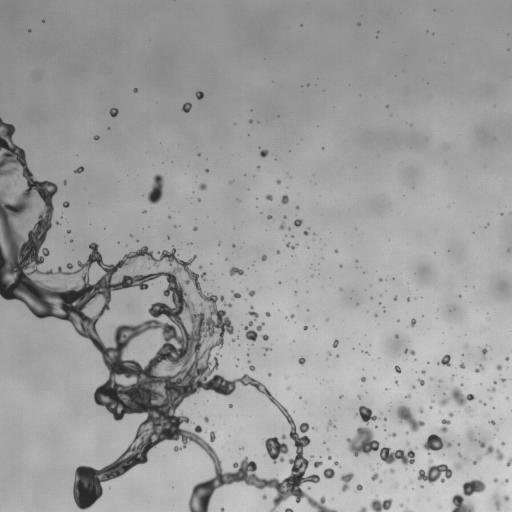droplet: (417, 458, 452, 484), (397, 405, 425, 434), (263, 437, 287, 463), (421, 434, 443, 455), (369, 494, 392, 511), (340, 472, 353, 492), (438, 418, 450, 433), (437, 354, 451, 366), (229, 266, 245, 276), (323, 468, 334, 479), (10, 133, 21, 144), (143, 180, 154, 191), (263, 201, 274, 212), (149, 243, 160, 254), (176, 249, 187, 260), (102, 254, 113, 265), (200, 281, 211, 292), (224, 308, 235, 319), (233, 325, 244, 336), (484, 360, 495, 371), (484, 363, 495, 374), (96, 373, 107, 384), (398, 382, 409, 393), (388, 411, 399, 422), (418, 428, 429, 439), (371, 429, 382, 440), (122, 434, 133, 445), (161, 438, 172, 449), (301, 445, 312, 456), (415, 446, 426, 457), (369, 449, 380, 460), (103, 454, 114, 465), (408, 463, 419, 474), (204, 468, 215, 479), (66, 472, 77, 483), (330, 475, 341, 486), (63, 484, 74, 495), (496, 484, 507, 495), (266, 486, 277, 497), (284, 494, 295, 505), (461, 494, 472, 505), (181, 102, 191, 113), (230, 290, 241, 300), (286, 242, 299, 250), (502, 446, 511, 457), (311, 460, 322, 468), (109, 108, 118, 117), (246, 288, 255, 297), (188, 95, 197, 104), (32, 172, 41, 181), (272, 193, 281, 202), (158, 194, 167, 203), (50, 195, 59, 204), (141, 197, 150, 206), (50, 211, 59, 220), (272, 215, 281, 224), (284, 217, 293, 226), (131, 242, 140, 251), (223, 292, 232, 301), (382, 295, 391, 304), (214, 300, 223, 309), (236, 347, 245, 356), (465, 362, 474, 371), (491, 370, 500, 379), (223, 372, 232, 381), (450, 379, 459, 388), (460, 386, 469, 395), (402, 398, 411, 407), (447, 399, 456, 408), (411, 411, 420, 420), (365, 419, 374, 428), (401, 420, 410, 429), (348, 429, 357, 438), (173, 437, 182, 446), (186, 440, 195, 449), (146, 448, 155, 457), (198, 449, 207, 458), (392, 458, 401, 467), (322, 459, 331, 468), (92, 461, 101, 470), (132, 463, 141, 472), (314, 466, 323, 475), (303, 467, 312, 476), (333, 468, 342, 477), (481, 476, 490, 485), (347, 479, 356, 488), (298, 481, 307, 490), (264, 498, 273, 507), (281, 194, 289, 204), (474, 364, 484, 372), (73, 166, 84, 173), (259, 149, 268, 157), (505, 466, 511, 477), (505, 483, 511, 494), (84, 505, 95, 511), (206, 505, 217, 511), (274, 505, 285, 511), (195, 91, 203, 99), (294, 219, 302, 227), (416, 378, 424, 386), (453, 462, 461, 470), (354, 484, 362, 492), (198, 183, 207, 190), (298, 357, 305, 366), (260, 334, 268, 341), (394, 365, 401, 373), (501, 478, 509, 485), (0, 175, 5, 186), (0, 232, 5, 243), (278, 221, 284, 230), (410, 318, 416, 327), (404, 392, 411, 399), (24, 155, 31, 162), (16, 164, 23, 171), (156, 168, 163, 175), (56, 182, 63, 189), (192, 183, 199, 190), (160, 186, 167, 193), (197, 189, 204, 196), (8, 198, 15, 205), (299, 223, 306, 230), (45, 229, 52, 236), (41, 240, 48, 247), (36, 249, 43, 256), (80, 256, 87, 263), (36, 263, 43, 270), (71, 263, 78, 270), (188, 263, 195, 270), (194, 267, 201, 274), (241, 290, 248, 297), (10, 297, 17, 304), (375, 306, 382, 313), (258, 313, 265, 320), (45, 315, 52, 322), (62, 319, 69, 326), (256, 330, 263, 337), (255, 334, 262, 341), (84, 337, 91, 344), (263, 339, 270, 346), (330, 347, 337, 354), (95, 351, 102, 358), (500, 359, 507, 366), (499, 368, 506, 375), (248, 370, 255, 377), (421, 373, 428, 380), (445, 389, 452, 396), (435, 393, 442, 400), (432, 402, 439, 409), (99, 405, 106, 412), (140, 411, 147, 418), (122, 412, 129, 419), (294, 419, 301, 426), (359, 420, 366, 427), (304, 429, 311, 436), (296, 430, 303, 437), (436, 430, 443, 437), (420, 435, 427, 442), (492, 442, 499, 449), (499, 445, 506, 452), (301, 451, 308, 458), (358, 451, 365, 458), (432, 459, 439, 466), (342, 467, 349, 474), (497, 474, 504, 481), (464, 475, 471, 482), (422, 479, 429, 486), (238, 480, 245, 487), (248, 484, 255, 491), (185, 487, 192, 494), (456, 488, 463, 495), (471, 490, 478, 497), (368, 494, 375, 501), (377, 495, 384, 502), (299, 496, 306, 503), (94, 498, 101, 505), (323, 501, 330, 508), (448, 502, 455, 509), (332, 339, 338, 347), (459, 361, 465, 369), (506, 377, 511, 386), (308, 506, 317, 511), (386, 506, 395, 511), (265, 194, 272, 200), (62, 201, 69, 207), (261, 254, 267, 261), (66, 263, 73, 269), (496, 364, 503, 370), (487, 387, 495, 392), (388, 432, 396, 437), (249, 365, 255, 371), (450, 374, 456, 380), (360, 376, 366, 382), (389, 468, 395, 474), (0, 125, 4, 134), (0, 146, 4, 155), (418, 406, 423, 413), (93, 135, 99, 140), (302, 325, 308, 330), (462, 343, 468, 348), (448, 411, 453, 417), (204, 416, 209, 422), (457, 452, 462, 458), (493, 477, 498, 483), (504, 495, 509, 501), (499, 378, 506, 382), (366, 507, 373, 511), (473, 507, 480, 511), (490, 507, 497, 511), (276, 179, 281, 184), (192, 226, 197, 231), (303, 230, 308, 235), (228, 403, 233, 408), (281, 434, 286, 439), (446, 442, 451, 447), (262, 494, 267, 499), (202, 93, 207, 98), (115, 113, 120, 118), (2, 118, 7, 123), (251, 120, 256, 125), (16, 142, 21, 147), (260, 145, 265, 150), (265, 153, 270, 158), (258, 155, 263, 160), (72, 164, 77, 169), (28, 167, 33, 172), (48, 177, 53, 182), (200, 178, 205, 183), (23, 184, 28, 189), (205, 185, 210, 190), (266, 189, 271, 194), (283, 190, 288, 195), (279, 202, 284, 207), (283, 202, 288, 207), (296, 214, 301, 219), (50, 218, 55, 223), (192, 221, 197, 226), (290, 224, 295, 229), (282, 227, 287, 232), (286, 230, 291, 235), (66, 233, 71, 238), (313, 234, 318, 239), (286, 236, 291, 241), (96, 246, 101, 251), (167, 247, 172, 252), (87, 248, 92, 253), (154, 253, 159, 258), (43, 255, 48, 260), (256, 255, 261, 260), (182, 256, 187, 261), (264, 258, 269, 263), (112, 260, 117, 265), (226, 264, 231, 269), (236, 264, 241, 269), (61, 266, 66, 271), (52, 267, 57, 272), (224, 269, 229, 274), (312, 270, 317, 275), (233, 272, 238, 277), (196, 276, 201, 281), (248, 285, 253, 290), (233, 288, 238, 293), (377, 296, 382, 301), (19, 301, 24, 306), (222, 305, 227, 310), (377, 310, 382, 315), (368, 311, 373, 316), (31, 314, 36, 319), (249, 314, 254, 319), (289, 317, 294, 322), (406, 319, 411, 324), (243, 320, 248, 325), (230, 321, 235, 326), (247, 325, 252, 330), (241, 329, 246, 334), (223, 330, 228, 335), (230, 333, 235, 338), (247, 338, 252, 343), (336, 343, 341, 348), (356, 345, 361, 350), (407, 345, 412, 350), (265, 350, 270, 355), (414, 352, 419, 357), (409, 354, 414, 359), (216, 356, 221, 361), (303, 360, 308, 365), (481, 360, 486, 365), (217, 362, 222, 367), (399, 365, 404, 370), (491, 365, 496, 370), (360, 371, 365, 376), (237, 373, 242, 378), (419, 374, 424, 379), (423, 378, 428, 383), (432, 378, 437, 383), (496, 379, 501, 384), (415, 381, 420, 386), (408, 388, 413, 393), (359, 390, 364, 395), (487, 390, 492, 395), (89, 395, 94, 400), (486, 402, 491, 407), (365, 403, 370, 408), (423, 406, 428, 411), (354, 407, 359, 412), (287, 409, 292, 414), (108, 412, 113, 417), (356, 414, 361, 419), (301, 417, 306, 422), (438, 422, 443, 427), (445, 423, 450, 428), (328, 425, 333, 430), (417, 425, 422, 430), (388, 428, 393, 433), (130, 432, 135, 437), (472, 433, 477, 438), (344, 441, 349, 446), (451, 441, 456, 446), (484, 441, 489, 446), (474, 442, 479, 447), (377, 444, 382, 449), (121, 446, 126, 451), (456, 446, 461, 451), (482, 446, 487, 451), (423, 448, 428, 453), (428, 448, 433, 453), (369, 449, 374, 454), (348, 451, 353, 456), (413, 454, 418, 459), (313, 456, 318, 461), (457, 457, 462, 462), (502, 457, 507, 462), (381, 460, 386, 465), (406, 462, 411, 467), (330, 464, 335, 469), (447, 464, 452, 469), (71, 466, 76, 471), (368, 471, 373, 476), (414, 471, 419, 476), (440, 471, 445, 476), (302, 472, 307, 477), (391, 472, 396, 477), (377, 474, 382, 479), (327, 477, 332, 482), (373, 478, 378, 483), (435, 478, 440, 483), (339, 480, 344, 485), (99, 481, 104, 486), (406, 483, 411, 488), (448, 494, 453, 499), (315, 497, 320, 502), (499, 497, 504, 502), (489, 499, 494, 504), (356, 505, 361, 510), (55, 221, 61, 225), (286, 386, 292, 390), (394, 482, 398, 488), (0, 218, 3, 225), (0, 294, 3, 301), (256, 165, 260, 170), (267, 215, 272, 219), (66, 229, 71, 233), (217, 241, 221, 246), (198, 264, 202, 269), (393, 295, 397, 300), (406, 297, 410, 302), (265, 312, 270, 316), (421, 370, 425, 375), (411, 384, 415, 389), (357, 394, 361, 399), (378, 411, 383, 415), (333, 461, 338, 465), (41, 19, 45, 23), (133, 88, 137, 92), (248, 119, 252, 123), (197, 198, 201, 202), (295, 205, 299, 209), (334, 249, 338, 253), (506, 248, 510, 252), (276, 250, 280, 254), (374, 313, 378, 317), (290, 314, 294, 318), (325, 317, 329, 321), (394, 334, 398, 338), (327, 351, 331, 355), (505, 356, 509, 360), (429, 377, 433, 381), (493, 380, 497, 384), (339, 395, 343, 399), (505, 396, 509, 400), (429, 405, 433, 409), (438, 409, 442, 413), (383, 417, 387, 421), (501, 441, 505, 445), (307, 486, 311, 490), (399, 503, 403, 507), (220, 507, 224, 511), (63, 180, 66, 185), (187, 241, 192, 244), (294, 290, 297, 295), (406, 441, 409, 446), (309, 454, 314, 457), (328, 455, 331, 460), (419, 485, 424, 488), (508, 355, 511, 360), (508, 395, 511, 400), (508, 477, 511, 482), (508, 495, 511, 500), (185, 508, 190, 511), (498, 508, 503, 511), (197, 153, 201, 156), (205, 169, 209, 172), (142, 210, 146, 213), (312, 232, 316, 235), (129, 234, 133, 237), (167, 235, 170, 239), (278, 280, 281, 284), (339, 287, 342, 291), (356, 302, 359, 306), (396, 319, 400, 322), (262, 353, 266, 356), (268, 372, 271, 376), (284, 375, 287, 379), (438, 379, 442, 382), (298, 396, 302, 399), (430, 400, 434, 403), (322, 440, 325, 444), (457, 442, 460, 446), (326, 447, 329, 451), (379, 479, 382, 483), (403, 485, 407, 488), (357, 22, 360, 25), (28, 29, 31, 32), (376, 30, 379, 33), (306, 83, 309, 86), (107, 126, 110, 129), (321, 146, 324, 149), (500, 212, 503, 215), (168, 215, 171, 218), (283, 215, 286, 218), (173, 225, 176, 228), (287, 227, 290, 230), (291, 234, 294, 237), (70, 239, 73, 242), (232, 244, 235, 247), (355, 259, 358, 262), (209, 262, 212, 265), (339, 264, 342, 267), (310, 274, 313, 277), (379, 294, 382, 297), (458, 294, 461, 297), (370, 296, 373, 299), (378, 301, 381, 304), (296, 304, 299, 307), (306, 308, 309, 311), (292, 339, 295, 342), (246, 353, 249, 356), (460, 353, 463, 356), (336, 354, 339, 357), (414, 358, 417, 361), (247, 360, 250, 363), (426, 361, 429, 364), (372, 376, 375, 379), (460, 383, 463, 386), (489, 396, 492, 399), (304, 400, 307, 403), (492, 406, 495, 409), (374, 425, 377, 428), (331, 497, 334, 500), (406, 498, 409, 501), (44, 19, 47, 22), (299, 20, 302, 23), (39, 21, 42, 24), (296, 23, 299, 26), (30, 27, 33, 30), (24, 28, 27, 31), (27, 31, 30, 34), (428, 31, 431, 34), (374, 32, 377, 35), (133, 84, 136, 87), (303, 84, 306, 87), (136, 87, 139, 90), (199, 88, 202, 91), (135, 91, 138, 94), (200, 97, 203, 100), (185, 99, 188, 102), (182, 100, 185, 103), (384, 101, 387, 104), (114, 105, 117, 108), (179, 105, 182, 108), (384, 107, 387, 110), (188, 109, 191, 112), (181, 110, 184, 113), (108, 114, 111, 117), (249, 116, 252, 119), (247, 122, 250, 125), (104, 125, 107, 128), (107, 129, 110, 132), (92, 132, 95, 135), (96, 132, 99, 135), (90, 135, 93, 138), (246, 135, 249, 138), (95, 139, 98, 142), (321, 143, 324, 146), (318, 146, 321, 149), (323, 147, 326, 150), (258, 148, 261, 151), (195, 150, 198, 153), (288, 151, 291, 154), (199, 154, 202, 157), (195, 155, 198, 158), (82, 164, 85, 167), (205, 165, 208, 168), (259, 166, 262, 169), (83, 167, 86, 170), (208, 169, 211, 172), (80, 171, 83, 174), (204, 171, 207, 174), (75, 172, 78, 175), (288, 172, 291, 175), (243, 175, 246, 178), (277, 176, 280, 179), (65, 180, 68, 183), (273, 180, 276, 183), (277, 183, 280, 186), (287, 195, 290, 198), (199, 196, 202, 199), (238, 196, 241, 199), (252, 196, 255, 199), (279, 196, 282, 199), (200, 199, 203, 202), (255, 199, 258, 202), (267, 199, 270, 202), (195, 200, 198, 203), (68, 203, 71, 206), (298, 204, 301, 207), (62, 206, 65, 209), (66, 206, 69, 209), (140, 208, 143, 211), (294, 208, 297, 211), (500, 209, 503, 212), (142, 212, 145, 215), (168, 212, 171, 215), (269, 212, 272, 215), (497, 213, 500, 216), (502, 213, 505, 216), (280, 214, 283, 217), (62, 215, 65, 218), (164, 215, 167, 218), (167, 218, 170, 221), (268, 218, 271, 221), (58, 220, 61, 223), (483, 222, 486, 225), (175, 223, 178, 226), (276, 224, 279, 227), (190, 225, 193, 228), (294, 225, 297, 228), (486, 225, 489, 228), (67, 226, 70, 229), (100, 226, 103, 229), (172, 227, 175, 230), (278, 228, 281, 231), (305, 228, 308, 231), (471, 228, 474, 231), (70, 229, 73, 232), (195, 229, 198, 232), (314, 230, 317, 233), (131, 232, 134, 235), (303, 234, 306, 237), (127, 235, 130, 238), (169, 235, 172, 238), (136, 236, 139, 239), (164, 236, 167, 239), (116, 237, 119, 240), (66, 239, 69, 242), (72, 239, 75, 242), (187, 239, 190, 242), (191, 239, 194, 242), (119, 240, 122, 243), (284, 240, 287, 243), (87, 241, 90, 244), (95, 241, 98, 244), (214, 241, 217, 244), (219, 242, 222, 245), (234, 242, 237, 245), (306, 242, 309, 245), (187, 243, 190, 246), (173, 245, 176, 248), (229, 245, 232, 248), (287, 246, 290, 249), (47, 247, 50, 250), (336, 247, 339, 250), (305, 248, 308, 251), (444, 248, 447, 251), (48, 250, 51, 253), (125, 250, 128, 253), (273, 250, 276, 253), (279, 250, 282, 253), (331, 250, 334, 253), (193, 251, 196, 254), (447, 251, 450, 254), (190, 254, 193, 257), (355, 256, 358, 259), (194, 257, 197, 260), (221, 257, 224, 260), (209, 259, 212, 262), (65, 260, 68, 263), (262, 260, 265, 263), (253, 262, 256, 265), (354, 262, 357, 265), (341, 263, 344, 266), (249, 265, 252, 268), (337, 266, 340, 269), (376, 275, 379, 278), (389, 275, 392, 278), (381, 276, 384, 279), (394, 276, 397, 279), (276, 278, 279, 281), (280, 279, 283, 282), (381, 279, 384, 282), (391, 279, 394, 282), (378, 281, 381, 284), (278, 283, 281, 286), (294, 287, 297, 290), (254, 290, 257, 293), (291, 291, 294, 294), (296, 291, 299, 294), (457, 291, 460, 294), (203, 292, 206, 295), (212, 292, 215, 295), (252, 294, 255, 297), (391, 294, 394, 297), (460, 295, 463, 298), (396, 296, 399, 299), (456, 296, 459, 299), (234, 297, 237, 300), (409, 297, 412, 300), (403, 298, 406, 301), (375, 300, 378, 303), (393, 300, 396, 303), (379, 303, 382, 306), (305, 305, 308, 308), (380, 307, 383, 310), (384, 307, 387, 310), (265, 308, 268, 311), (306, 311, 309, 314), (384, 311, 387, 314), (420, 311, 423, 314), (269, 312, 272, 315), (423, 314, 426, 317), (281, 315, 284, 318), (287, 315, 290, 318), (372, 316, 375, 319), (375, 316, 378, 319), (395, 316, 398, 319), (399, 318, 402, 321), (304, 322, 307, 325), (414, 322, 417, 325), (314, 324, 317, 327), (261, 325, 264, 328), (300, 326, 303, 329), (303, 329, 306, 332), (266, 332, 269, 335), (397, 333, 400, 336), (335, 336, 338, 339), (393, 337, 396, 340), (234, 338, 237, 341), (266, 338, 269, 341), (331, 338, 334, 341), (231, 341, 234, 344), (359, 341, 362, 344), (350, 344, 353, 347), (481, 345, 484, 348), (485, 346, 488, 349), (271, 348, 274, 351), (363, 348, 366, 351), (401, 348, 404, 351), (262, 349, 265, 352), (247, 350, 250, 353), (367, 350, 370, 353), (460, 350, 463, 353), (361, 351, 364, 354), (479, 351, 482, 354), (485, 351, 488, 354), (463, 352, 466, 355), (338, 353, 341, 356), (364, 353, 367, 356), (235, 354, 238, 357), (301, 354, 304, 357), (449, 354, 452, 357), (261, 355, 264, 358), (297, 355, 300, 358), (327, 355, 330, 358), (502, 355, 505, 358), (246, 356, 249, 359), (426, 358, 429, 361), (235, 360, 238, 363), (295, 360, 298, 363), (413, 360, 416, 363), (448, 360, 451, 363), (248, 362, 251, 365), (395, 362, 398, 365), (433, 362, 436, 365), (463, 362, 466, 365), (298, 363, 301, 366), (426, 363, 429, 366), (232, 365, 235, 368), (476, 365, 479, 368), (422, 367, 425, 370), (459, 367, 462, 370), (392, 368, 395, 371), (471, 368, 474, 371), (400, 369, 403, 372), (270, 371, 273, 374), (394, 371, 397, 374), (473, 371, 476, 374), (476, 371, 479, 374), (453, 375, 456, 378), (501, 375, 504, 378), (375, 376, 378, 379), (364, 379, 367, 382), (397, 380, 400, 383), (459, 380, 462, 383), (503, 380, 506, 383), (360, 381, 363, 384), (392, 382, 395, 385), (423, 382, 426, 385), (438, 382, 441, 385), (492, 383, 495, 386), (386, 385, 389, 388), (408, 385, 411, 388), (488, 386, 491, 389), (381, 387, 384, 390), (267, 388, 270, 391), (412, 388, 415, 391), (287, 389, 290, 392), (384, 390, 387, 393), (357, 391, 360, 394), (470, 391, 473, 394), (338, 392, 341, 395), (404, 392, 407, 395), (343, 393, 346, 396), (295, 395, 298, 398), (341, 396, 344, 399), (355, 396, 358, 399), (431, 396, 434, 399), (299, 398, 302, 401), (429, 402, 432, 405), (480, 402, 483, 405), (492, 403, 495, 406), (284, 405, 287, 408), (483, 405, 486, 408), (428, 408, 431, 411), (492, 408, 495, 411), (452, 411, 455, 414), (469, 411, 472, 414), (384, 414, 387, 417), (380, 416, 383, 419), (386, 417, 389, 420), (488, 417, 491, 420), (325, 419, 328, 422), (493, 419, 496, 422), (382, 420, 385, 423), (484, 420, 487, 423), (332, 421, 335, 424), (488, 422, 491, 425), (335, 423, 338, 426), (395, 433, 398, 436), (480, 438, 483, 441), (503, 439, 506, 442), (319, 440, 322, 443), (308, 441, 311, 444), (323, 443, 326, 446), (459, 443, 462, 446), (385, 444, 388, 447), (181, 447, 184, 450), (177, 449, 180, 452), (412, 449, 415, 452), (460, 451, 463, 454), (327, 452, 330, 455), (471, 457, 474, 460), (469, 460, 472, 463), (475, 462, 478, 465), (504, 475, 507, 478), (368, 477, 371, 480), (360, 482, 363, 485), (419, 487, 422, 490), (356, 489, 359, 492), (259, 496, 262, 499), (220, 504, 223, 507), (401, 506, 404, 509), (407, 506, 410, 509), (285, 316, 287, 320), (432, 32, 434, 35), (385, 105, 388, 107), (307, 227, 310, 229), (285, 234, 287, 237), (136, 239, 138, 242), (306, 246, 309, 248), (225, 257, 227, 260), (306, 290, 308, 293), (244, 298, 246, 301), (366, 310, 368, 313), (238, 343, 240, 346), (326, 357, 328, 360), (236, 358, 239, 360), (235, 365, 238, 367), (385, 388, 388, 390), (415, 446, 417, 449), (509, 47, 511, 50), (509, 248, 511, 251), (223, 509, 226, 511), (495, 509, 498, 511), (433, 9, 435, 11), (300, 24, 302, 26), (426, 30, 428, 32), (376, 36, 378, 38), (507, 48, 509, 50), (250, 109, 252, 111), (277, 115, 279, 117), (410, 124, 412, 126), (258, 146, 260, 148), (253, 175, 255, 177), (256, 197, 258, 199), (509, 212, 511, 214), (60, 216, 62, 218), (117, 241, 119, 243), (125, 244, 127, 246), (321, 257, 323, 259), (247, 267, 249, 269), (363, 271, 365, 273), (392, 277, 394, 279), (465, 285, 467, 287), (414, 297, 416, 299), (449, 309, 451, 311), (421, 315, 423, 317), (315, 328, 317, 330), (358, 343, 360, 345), (369, 344, 371, 346), (352, 347, 354, 349), (383, 424, 385, 426), (384, 429, 386, 431), (385, 437, 387, 439), (108, 487, 110, 489), (301, 85, 302, 87), (244, 174, 246, 175), (192, 191, 194, 192), (434, 251, 435, 253), (487, 312, 488, 314), (241, 323, 242, 325), (312, 325, 314, 326), (362, 368, 363, 370), (438, 385, 439, 387), (388, 410, 390, 411), (205, 431, 206, 433), (494, 433, 495, 435), (228, 435, 230, 436), (319, 456, 321, 457), (339, 466, 341, 467), (261, 212, 262, 213), (104, 228, 105, 229)
ligament: (147, 174, 164, 204), (243, 320, 257, 345), (219, 295, 231, 307), (369, 465, 378, 481), (492, 494, 500, 510), (478, 346, 487, 359), (488, 420, 498, 431), (403, 347, 415, 355), (256, 322, 265, 331), (209, 430, 215, 442), (357, 506, 368, 511), (506, 457, 511, 467), (231, 335, 239, 341), (478, 400, 486, 406), (361, 350, 370, 355), (262, 347, 272, 351), (394, 377, 398, 386), (402, 508, 413, 511), (378, 277, 386, 281), (484, 222, 489, 228), (382, 305, 386, 312), (238, 446, 244, 450), (285, 508, 293, 511), (236, 198, 241, 202), (251, 261, 255, 266), (408, 478, 412, 483), (228, 180, 234, 183), (376, 462, 381, 465), (291, 255, 292, 257)
